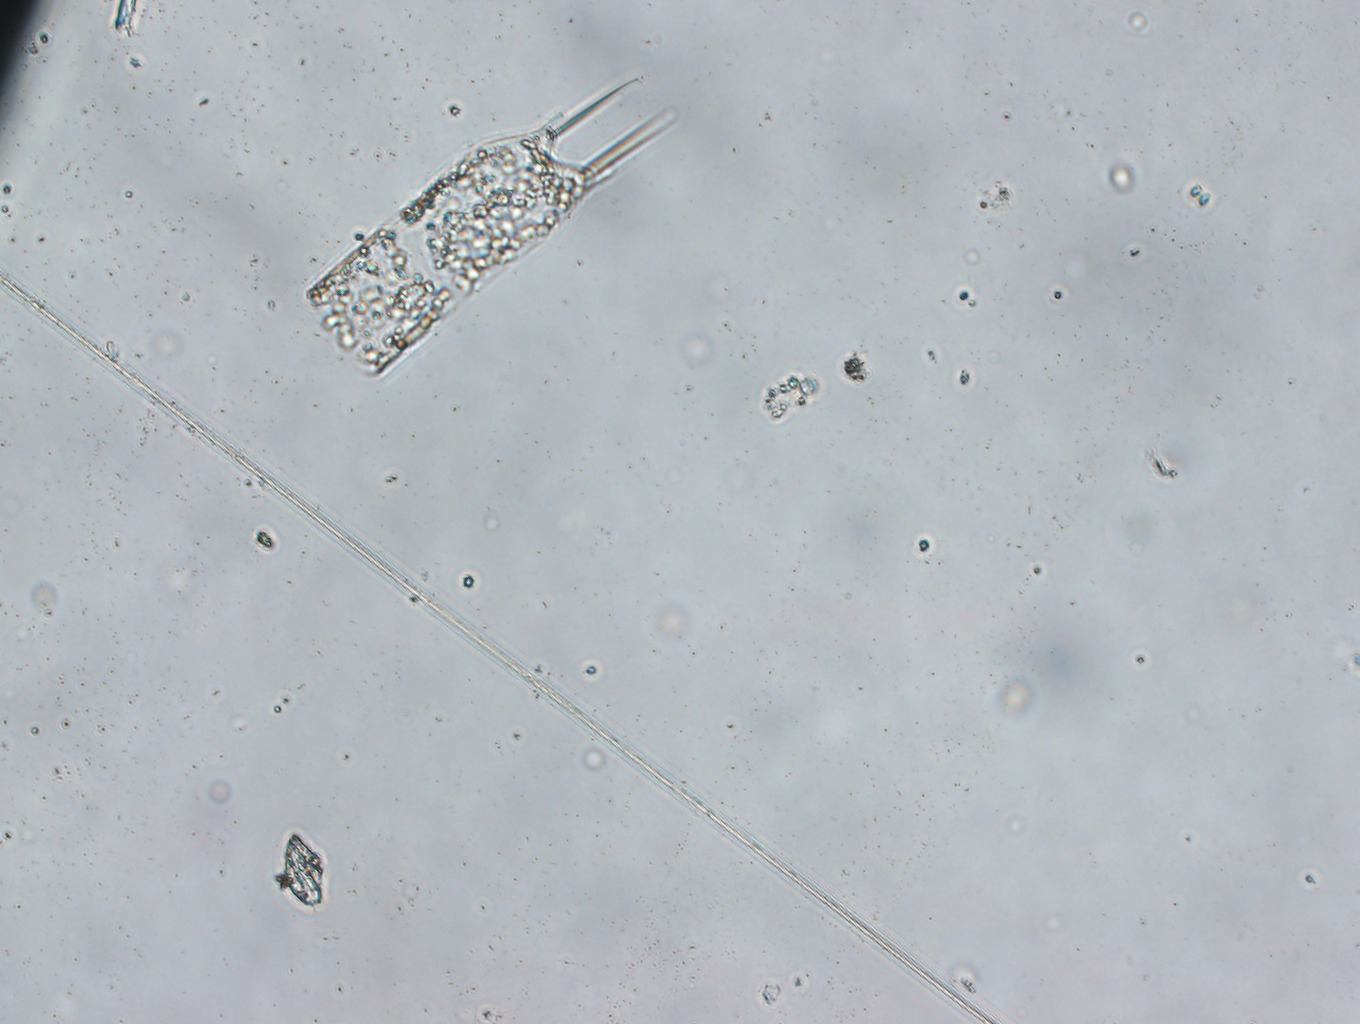biddulphia: (301, 79, 683, 380)
